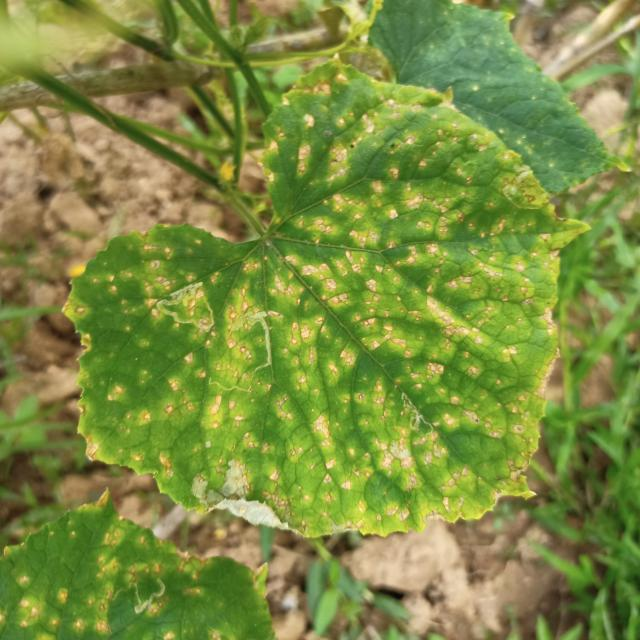disease_cucumber: (77, 75, 562, 531)
